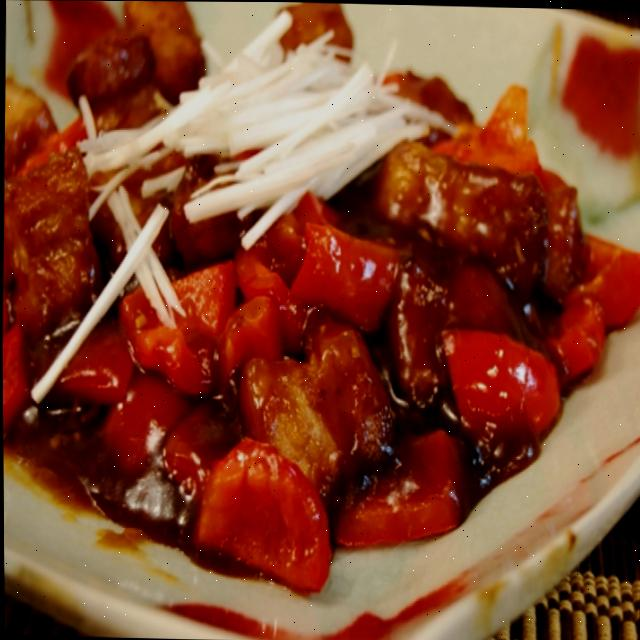猪肉菜式: (0, 0, 640, 603)
